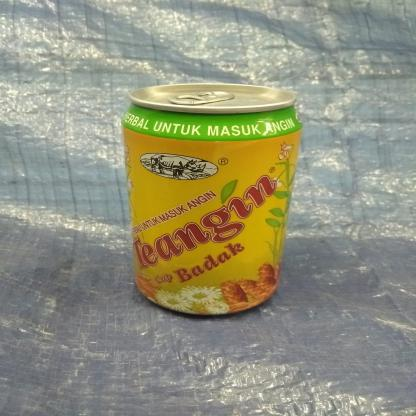bottle: (120, 78, 304, 321)
